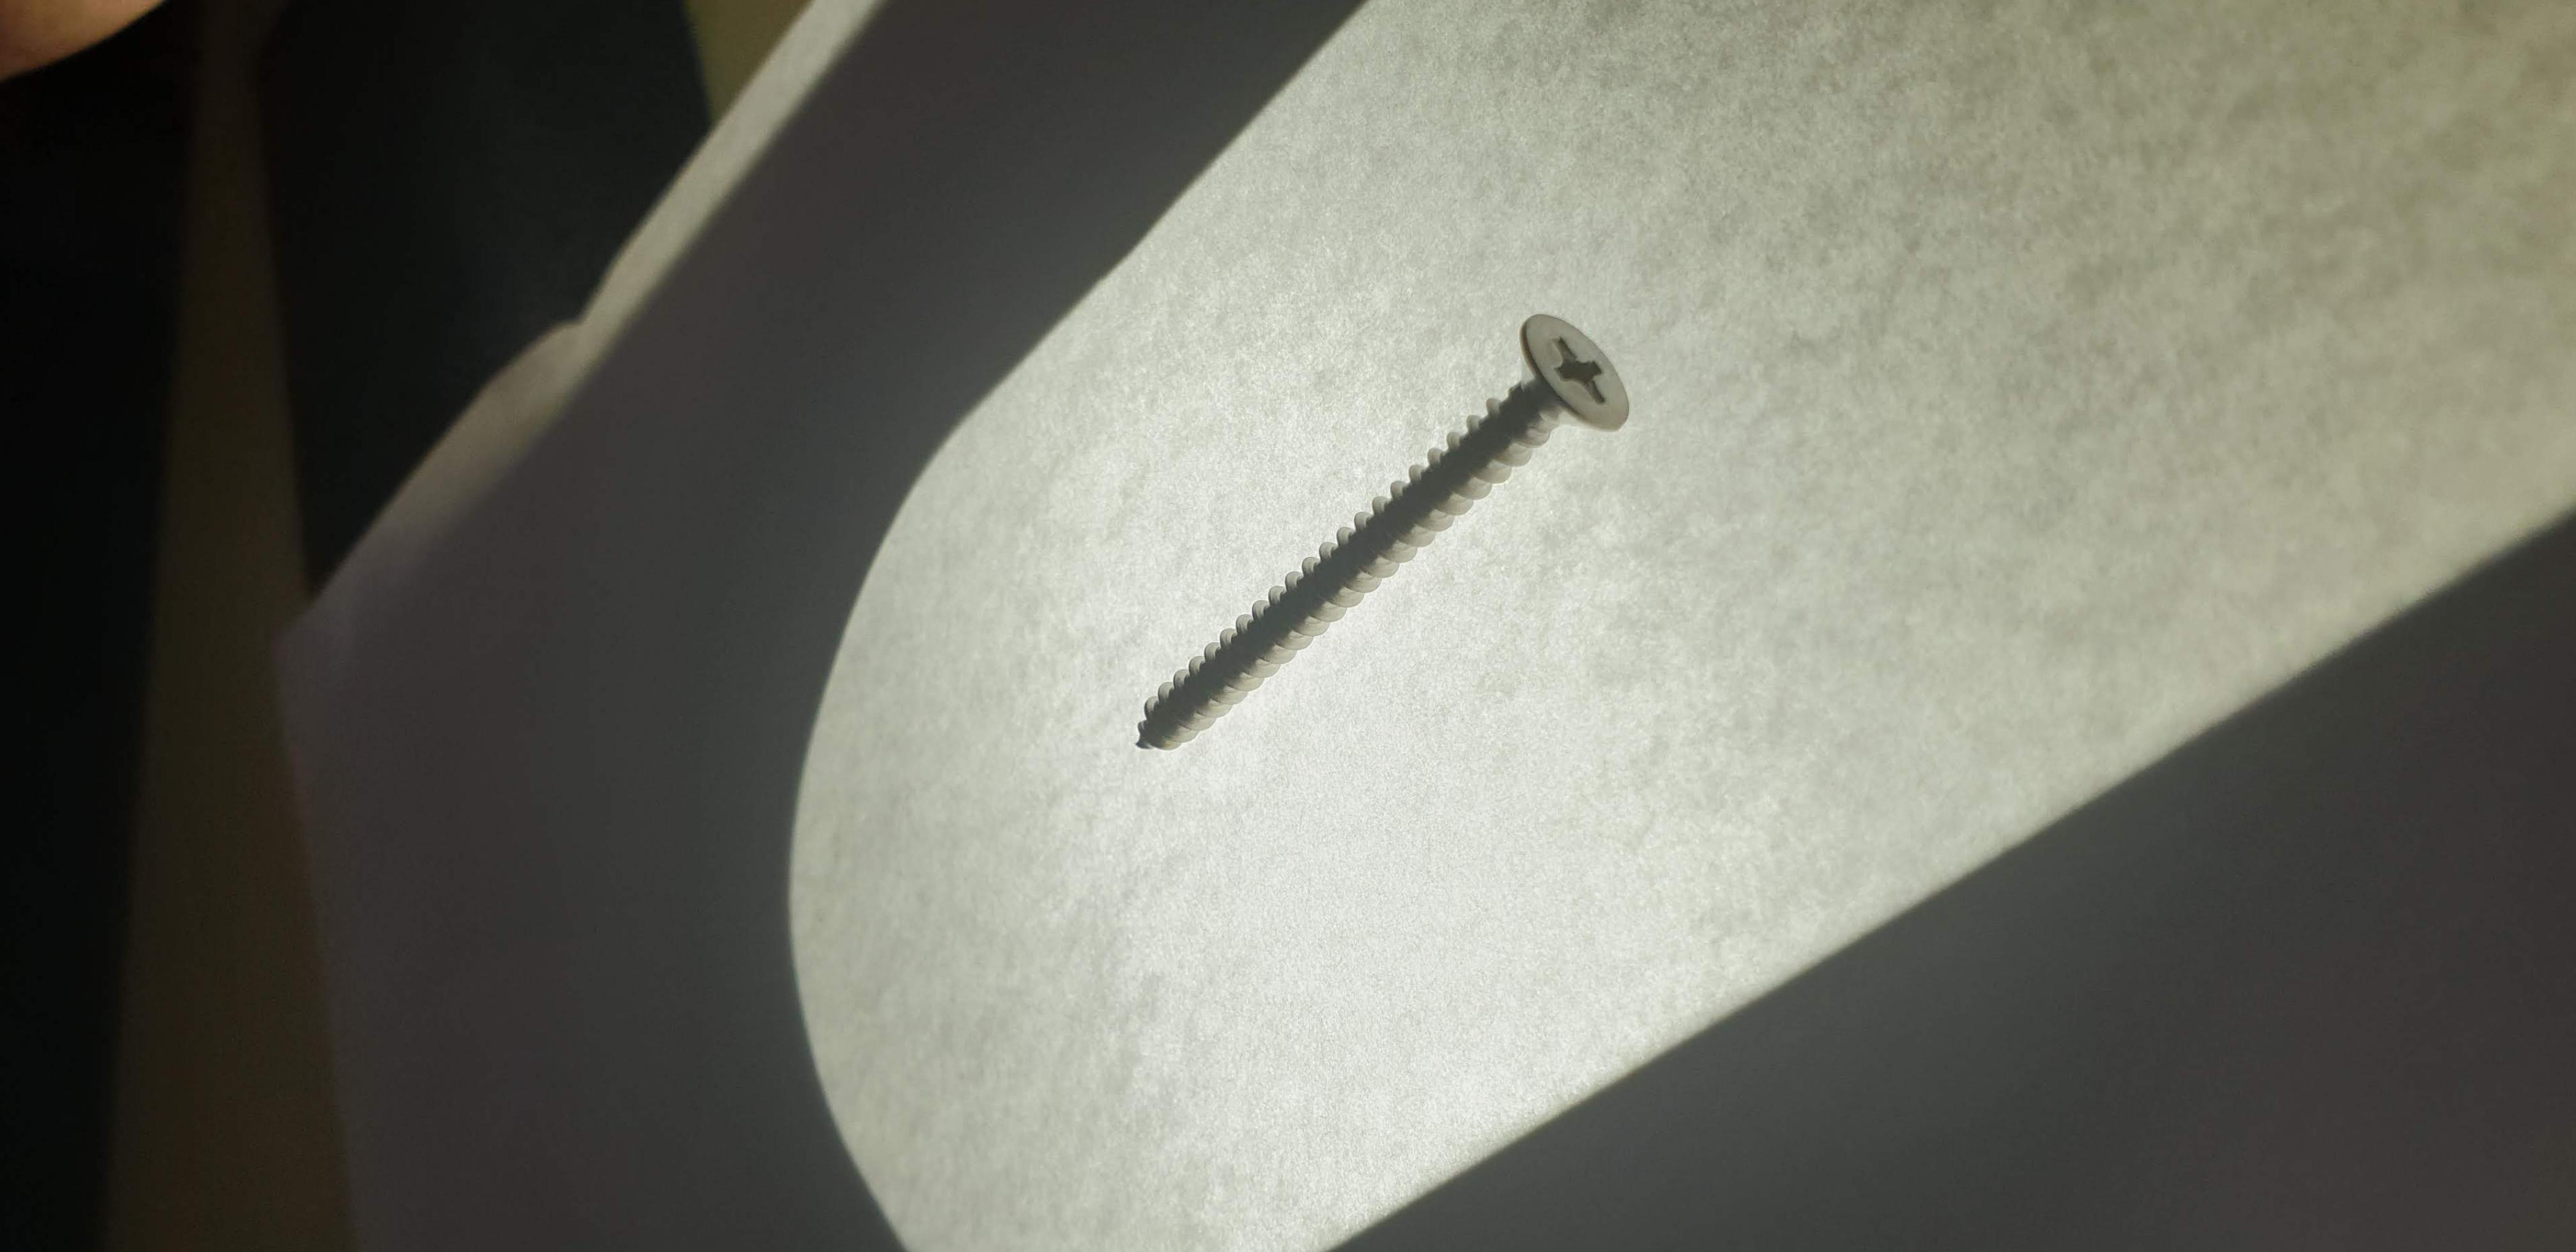S001: (1111, 274, 1648, 787)
